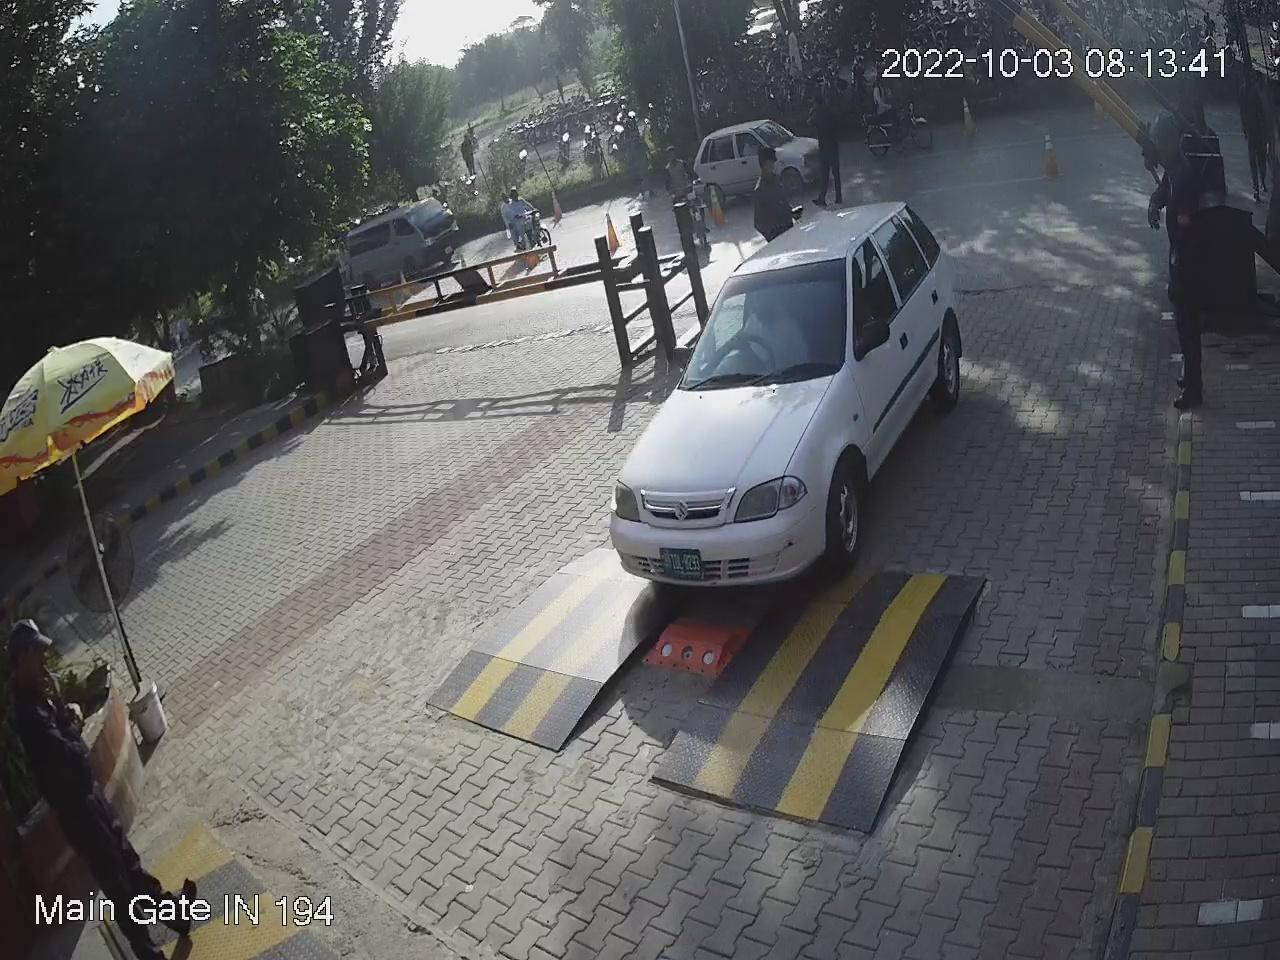windshield: (675, 245, 856, 390)
